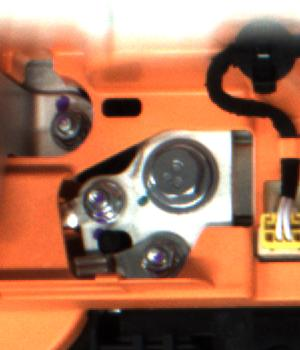nut_b: (135, 135, 220, 208)
screw_s: (82, 177, 126, 217), (138, 237, 174, 274), (47, 110, 82, 145)
